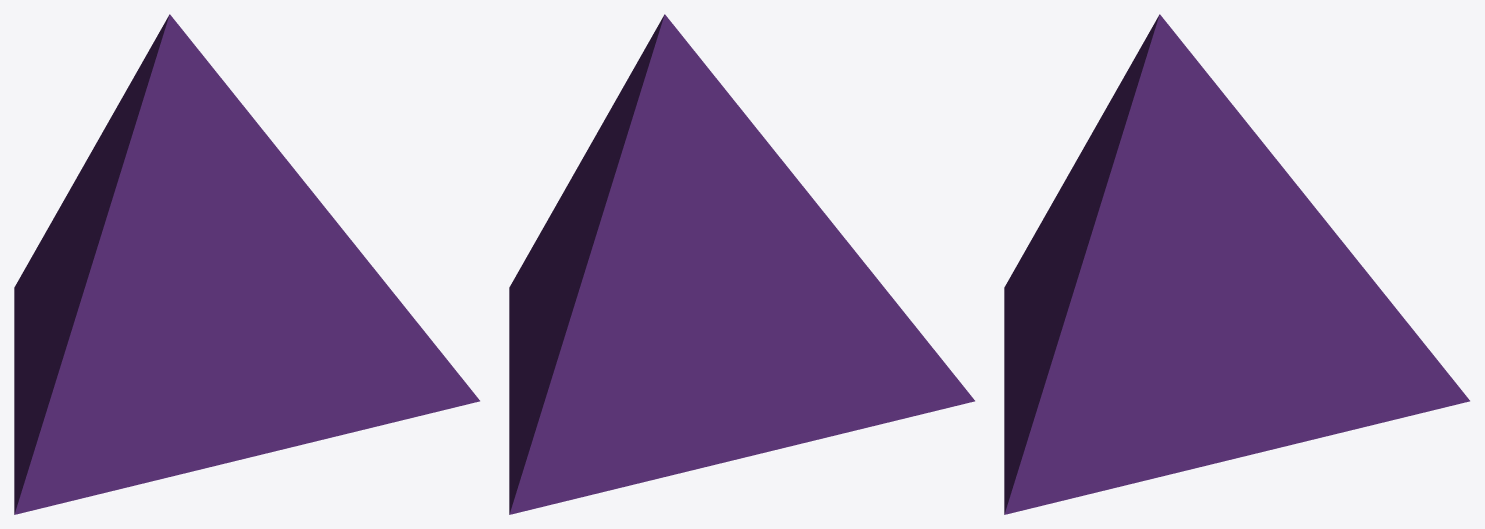
3 views of the same model, side by side, from view 1: azimuth 30°, elevation 25°; view 2: azimuth 150°, elevation 25°; view 3: azimuth 270°, elevation 25° (orthographic).
Visible parts, largest first — view 1: cone; view 2: cone; view 3: cone.
Part boxes in pixels (x1=…): cone: x1=14, y1=14, x2=479, y2=514; cone: x1=509, y1=14, x2=974, y2=514; cone: x1=1004, y1=14, x2=1469, y2=514.
Bounding box in the file's own units: 86.6 × 68.75 × 75.
Materials: 1 (1 with a texture image).
